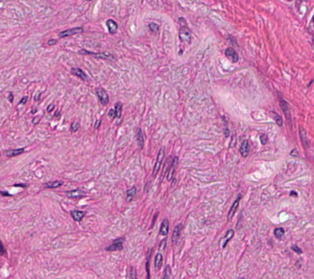nucleus: (152, 148, 163, 176), (79, 50, 112, 58), (228, 196, 239, 219), (167, 157, 177, 180), (106, 237, 123, 250), (179, 23, 190, 43), (71, 68, 88, 80), (222, 229, 233, 247), (96, 88, 108, 104), (172, 223, 181, 242), (66, 189, 84, 198), (225, 48, 237, 61), (70, 210, 84, 221), (239, 140, 249, 155), (5, 148, 23, 156), (159, 219, 168, 235), (136, 128, 143, 148), (126, 186, 135, 201), (271, 112, 281, 125), (154, 253, 162, 268), (222, 117, 228, 136), (44, 181, 62, 187), (114, 102, 121, 117), (274, 227, 283, 238), (163, 265, 170, 278), (70, 121, 79, 131), (18, 96, 27, 104), (260, 134, 267, 144), (129, 267, 135, 278), (108, 109, 115, 118), (159, 239, 165, 249), (0, 242, 5, 254), (47, 104, 53, 111), (95, 120, 100, 128), (8, 93, 12, 101), (48, 40, 55, 44), (1, 192, 9, 195)
